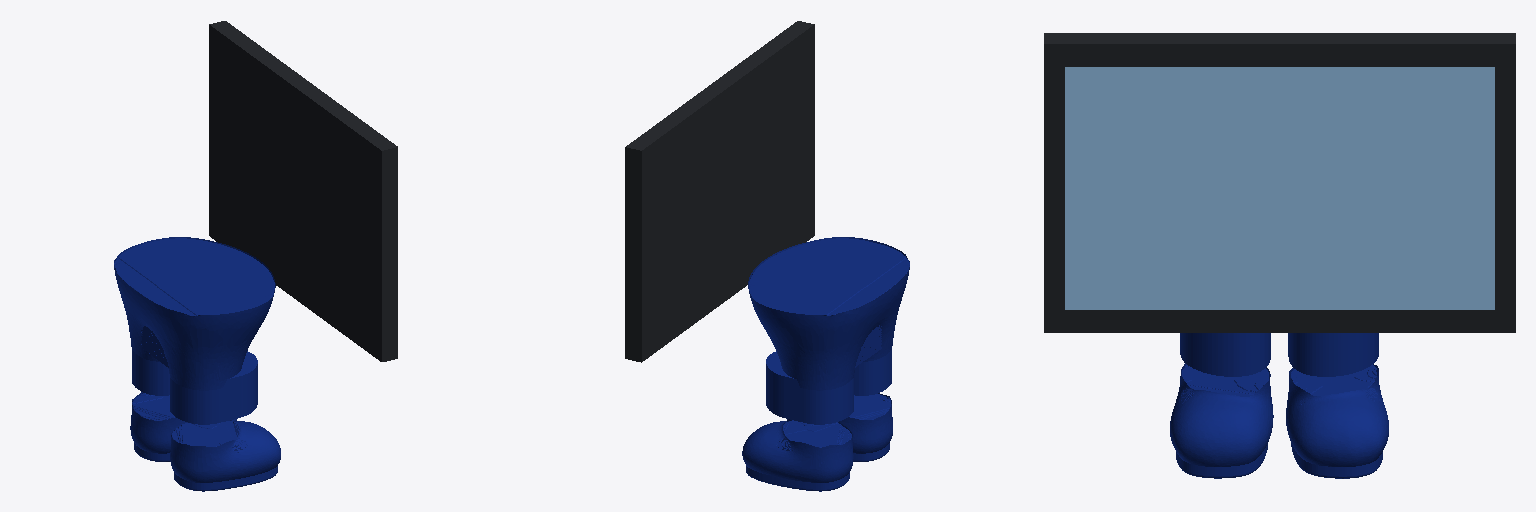
URDF robot description (haetburi):
<?xml version="1.0"?>
<!-- Haetburi biped (v15_sts3032) - generated by tools/build_model.py, do not edit by hand -->
<robot name="haetburi">
  <mujoco>
    <compiler meshdir="." balanceinertia="true" discardvisual="false" strippath="false" fusestatic="false"/>
  </mujoco>
  <material name="display"><color rgba="0.18 0.19 0.21 1"/></material>
  <material name="screen"><color rgba="0.62 0.80 0.95 1"/></material>
  <material name="shell"><color rgba="0.106 0.216 0.541 1"/></material>
  <material name="motor"><color rgba="0.15 0.15 0.17 1"/></material>
  <material name="foot"><color rgba="0.25 0.25 0.28 1"/></material>
  <link name="world"/>
  <joint name="floating_base" type="floating">
    <parent link="world"/><child link="pelvis"/>
    <origin xyz="0 0 0" rpy="0 0 0"/>
  </joint>
  <link name="pelvis">
    <inertial>
      <origin xyz="-0.00759316 -5.36043e-05 0.0374971" rpy="0 0 0"/>
      <mass value="0.251261"/>
      <inertia ixx="0.000217511" ixy="1.30699e-07" ixz="8.27175e-05" iyy="0.000276039" iyz="-1.86504e-07" izz="0.000217547"/>
    </inertial>
    <visual><origin xyz="0 0 0" rpy="0 0 0"/><geometry><mesh filename="meshes/pelvis.stl"/></geometry><material name="shell"/></visual>
    <visual><origin xyz="0.00550234 0.0217269 0.02575" rpy="0 0 0"/><geometry><box size="0.023 0.012 0.0275"/></geometry><material name="motor"/></visual>
    <visual><origin xyz="0.00549766 -0.0219949 0.02575" rpy="0 0 0"/><geometry><box size="0.023 0.012 0.0275"/></geometry><material name="motor"/></visual>
    <collision><origin xyz="0.00662685 -0.000129828 0.02318" rpy="0 0 0"/><geometry><box size="0.0794527 0.105508 0.04636"/></geometry></collision>
  </link>
  <link name="torso">
    <inertial>
      <origin xyz="0.0192072 9.20423e-05 0.115262" rpy="0 0 0"/>
      <mass value="1.50503"/>
      <inertia ixx="0.0193461" ixy="-5.65898e-05" ixz="0.00349487" iyy="0.0194621" iyz="-5.44857e-05" izz="0.0106206"/>
    </inertial>
    <visual><origin xyz="0 0 0" rpy="0 0 0"/><geometry><mesh filename="meshes/torso.stl"/></geometry><material name="shell"/></visual>
    <visual><origin xyz="0.0745583 0 0.0355581" rpy="0 0 0"/><geometry><box size="0.010488 0.191976 0.129778"/></geometry><material name="display"/></visual>
    <visual><origin xyz="0.0798023 0 0.0355581" rpy="0 0 0"/><geometry><box size="0.0004 0.175104 0.10944"/></geometry><material name="screen"/></visual>
    <collision><origin xyz="-0.0346171 -1.61149e-06 0.0255391" rpy="0 0 0"/><geometry><box size="0.162488 0.110179 0.108503"/></geometry></collision>
    <collision><origin xyz="0.0422712 0.0853434 0.0514632" rpy="0 0 0"/><geometry><sphere radius="0.0617338"/></geometry></collision>
    <collision><origin xyz="0.0425634 -0.0854742 0.0514632" rpy="0 0 0"/><geometry><sphere radius="0.0616744"/></geometry></collision>
    <collision><origin xyz="-0.00530575 0.000271341 0.104186" rpy="0 0 0"/><geometry><sphere radius="0.105886"/></geometry></collision>
    <collision><origin xyz="-0.00924545 -0.000124749 0.152943" rpy="0 0 0"/><geometry><sphere radius="0.122161"/></geometry></collision>
    <collision><origin xyz="-0.0140782 -0.000205893 0.20171" rpy="0 0 0"/><geometry><sphere radius="0.120746"/></geometry></collision>
    <collision><origin xyz="-0.0110443 0.000869762 0.250473" rpy="0 0 0"/><geometry><sphere radius="0.104993"/></geometry></collision>
    <collision><origin xyz="-0.00653525 0.00688441 0.299267" rpy="0 0 0"/><geometry><sphere radius="0.0748356"/></geometry></collision>
    <collision><origin xyz="-0.0119767 -0.00227545 0.348018" rpy="0 0 0"/><geometry><sphere radius="0.0434294"/></geometry></collision>
    <collision><origin xyz="0.0745583 0 0.0355581" rpy="0 0 0"/><geometry><box size="0.010488 0.191976 0.129778"/></geometry></collision>
  </link>
  <link name="leg_l">
    <inertial>
      <origin xyz="0.00585497 -0.000671993 -0.0165854" rpy="0 0 0"/>
      <mass value="0.0785708"/>
      <inertia ixx="1.71225e-05" ixy="3.71545e-07" ixz="-1.83148e-06" iyy="1.73747e-05" iyz="2.27664e-07" izz="1.88205e-05"/>
    </inertial>
    <visual><origin xyz="0 0 0" rpy="0 0 0"/><geometry><mesh filename="meshes/leg_l.stl"/></geometry><material name="shell"/></visual>
    <visual><origin xyz="0.012416 -0.00171 -0.0125" rpy="0 0 0"/><geometry><box size="0.012 0.0275 0.023"/></geometry><material name="motor"/></visual>
    <collision><origin xyz="0.0052514 -6.92962e-06 -0.01275" rpy="0 0 0"/><geometry><box size="0.0519493 0.037971 0.0255"/></geometry></collision>
  </link>
  <link name="ankle_l">
    <inertial>
      <origin xyz="-0.0010508 -0.00125116 -0.02069" rpy="0 0 0"/>
      <mass value="0.0218531"/>
      <inertia ixx="6.03202e-06" ixy="0" ixz="0" iyy="3.84671e-06" iyz="0" izz="3.64219e-06"/>
    </inertial>
  </link>
  <link name="foot_l">
    <inertial>
      <origin xyz="0.000381636 0.00444385 -0.000682344" rpy="0 0 0"/>
      <mass value="0.0688641"/>
      <inertia ixx="1.08087e-05" ixy="-4.92182e-07" ixz="-1.45655e-07" iyy="1.58387e-05" iyz="-6.66506e-07" izz="1.83923e-05"/>
    </inertial>
    <visual><origin xyz="0 0 0" rpy="0 0 0"/><geometry><mesh filename="meshes/foot_l.stl"/></geometry><material name="shell"/></visual>
    <visual><origin xyz="0 0.0055 4.44089e-19" rpy="0 0 0"/><geometry><box size="0.0275 0.023 0.012"/></geometry><material name="motor"/></visual>
    <collision><origin xyz="0 0 0" rpy="0 0 0"/><geometry><mesh filename="meshes/foot_l.stl"/></geometry></collision>
  </link>
  <link name="leg_r">
    <inertial>
      <origin xyz="0.0058459 0.000678567 -0.0165854" rpy="0 0 0"/>
      <mass value="0.078566"/>
      <inertia ixx="1.71377e-05" ixy="-3.9148e-07" ixz="-1.82785e-06" iyy="1.73505e-05" iyz="-2.30134e-07" izz="1.88116e-05"/>
    </inertial>
    <visual><origin xyz="0 0 0" rpy="0 0 0"/><geometry><mesh filename="meshes/leg_r.stl"/></geometry><material name="shell"/></visual>
    <visual><origin xyz="0.0124053 0.00171 -0.0125" rpy="0 0 0"/><geometry><box size="0.012 0.0275 0.023"/></geometry><material name="motor"/></visual>
    <collision><origin xyz="0.00525528 1.09856e-05 -0.01275" rpy="0 0 0"/><geometry><box size="0.05192 0.038044 0.0255"/></geometry></collision>
  </link>
  <link name="ankle_r">
    <inertial>
      <origin xyz="-0.000992262 0.00113499 -0.02069" rpy="0 0 0"/>
      <mass value="0.0218531"/>
      <inertia ixx="6.03202e-06" ixy="0" ixz="0" iyy="3.84671e-06" iyz="0" izz="3.64219e-06"/>
    </inertial>
  </link>
  <link name="foot_r">
    <inertial>
      <origin xyz="0.000299759 -0.00435338 -0.000712873" rpy="0 0 0"/>
      <mass value="0.0687493"/>
      <inertia ixx="1.07223e-05" ixy="5.08706e-07" ixz="-1.03695e-07" iyy="1.5759e-05" iyz="6.46582e-07" izz="1.83128e-05"/>
    </inertial>
    <visual><origin xyz="0 0 0" rpy="0 0 0"/><geometry><mesh filename="meshes/foot_r.stl"/></geometry><material name="shell"/></visual>
    <visual><origin xyz="0 -0.0055 4.44089e-19" rpy="0 0 0"/><geometry><box size="0.0275 0.023 0.012"/></geometry><material name="motor"/></visual>
    <collision><origin xyz="0 0 0" rpy="0 0 0"/><geometry><mesh filename="meshes/foot_r.stl"/></geometry></collision>
  </link>
  <joint name="waist_fixed" type="fixed">
    <parent link="pelvis"/><child link="torso"/>
    <origin xyz="0 0 0.04636" rpy="0 0 0"/>
  </joint>
  <joint name="hip_yaw_l" type="revolute">
    <parent link="pelvis"/><child link="leg_l"/>
    <origin xyz="2.34018e-06 0.0217269 0" rpy="0 0 0"/>
    <axis xyz="0 0 1"/>
    <limit lower="-0.523599" upper="0.523599" effort="0.44" velocity="11.6"/>
    <dynamics damping="0.03142857142857144" friction="0.012571428571428574"/>
  </joint>
  <joint name="hip_yaw_r" type="revolute">
    <parent link="pelvis"/><child link="leg_r"/>
    <origin xyz="-2.34018e-06 -0.0219949 0" rpy="0 0 0"/>
    <axis xyz="0 0 1"/>
    <limit lower="-0.523599" upper="0.523599" effort="0.44" velocity="11.6"/>
    <dynamics damping="0.03142857142857144" friction="0.012571428571428574"/>
  </joint>
  <joint name="ankle_pitch_l" type="revolute">
    <parent link="leg_l"/><child link="ankle_l"/>
    <origin xyz="0.012416 -0.00171 -0.018" rpy="0 0 0"/>
    <axis xyz="0 1 0"/>
    <limit lower="-0.261799" upper="0.261799" effort="0.44" velocity="11.6"/>
    <dynamics damping="0.03142857142857144" friction="0.012571428571428574"/>
  </joint>
  <joint name="ankle_pitch_r" type="revolute">
    <parent link="leg_r"/><child link="ankle_r"/>
    <origin xyz="0.0124053 0.00171 -0.018" rpy="0 0 0"/>
    <axis xyz="0 1 0"/>
    <limit lower="-0.261799" upper="0.261799" effort="0.44" velocity="11.6"/>
    <dynamics damping="0.03142857142857144" friction="0.012571428571428574"/>
  </joint>
  <joint name="ankle_roll_l" type="revolute">
    <parent link="ankle_l"/><child link="foot_l"/>
    <origin xyz="-0.0021016 -0.00250233 -0.04138" rpy="0 0 0"/>
    <axis xyz="1 0 0"/>
    <limit lower="-0.261799" upper="0.261799" effort="0.44" velocity="11.6"/>
    <dynamics damping="0.03142857142857144" friction="0.012571428571428574"/>
  </joint>
  <joint name="ankle_roll_r" type="revolute">
    <parent link="ankle_r"/><child link="foot_r"/>
    <origin xyz="-0.00198452 0.00226997 -0.04138" rpy="0 0 0"/>
    <axis xyz="1 0 0"/>
    <limit lower="-0.261799" upper="0.261799" effort="0.44" velocity="11.6"/>
    <dynamics damping="0.03142857142857144" friction="0.012571428571428574"/>
  </joint>
</robot>

--- What the picture shows (computed from the rendered views, not written in the file) ---
3 views of the same robot in one strip: view 1: azimuth 30°, elevation 25°; view 2: azimuth 150°, elevation 25°; view 3: azimuth 270°, elevation 25° (orthographic).
Robot: haetburi — 9 links, 8 joints (6 revolute, 1 fixed, 1 floating); root link world; default pose: all joints at 0.
Visible links, largest first — view 1: torso, pelvis, foot_r, leg_r, foot_l, leg_l; view 2: torso, pelvis, foot_l, leg_l, foot_r, leg_r; view 3: torso, foot_r, foot_l, leg_l, leg_r.
Link boxes in pixels (box(x1,y1,x2,y2)): torso: box(209, 21, 397, 361); pelvis: box(114, 237, 275, 383); foot_r: box(170, 420, 280, 491); leg_r: box(169, 351, 257, 424); foot_l: box(130, 392, 236, 461); leg_l: box(131, 342, 169, 395); torso: box(625, 21, 814, 362); pelvis: box(748, 237, 909, 382); foot_l: box(742, 420, 853, 491); leg_l: box(766, 351, 854, 424); foot_r: box(787, 393, 892, 461); leg_r: box(854, 342, 892, 395); torso: box(1044, 33, 1515, 332); foot_r: box(1170, 363, 1273, 478); foot_l: box(1286, 364, 1388, 478); leg_l: box(1288, 333, 1378, 376); leg_r: box(1180, 333, 1270, 376).
Bounding box of the posed robot: 0.1131 × 0.192 × 0.2144 m (x, y, z).
5 mesh visuals loaded from 6 distinct referenced files (5 binary STL); not drawn: 1 (reference not matched to a file when rendering).
